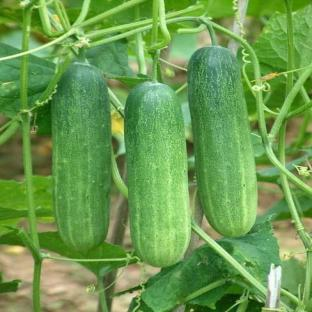Cucumber: (188, 47, 257, 237), (125, 83, 190, 266), (52, 61, 111, 252)
